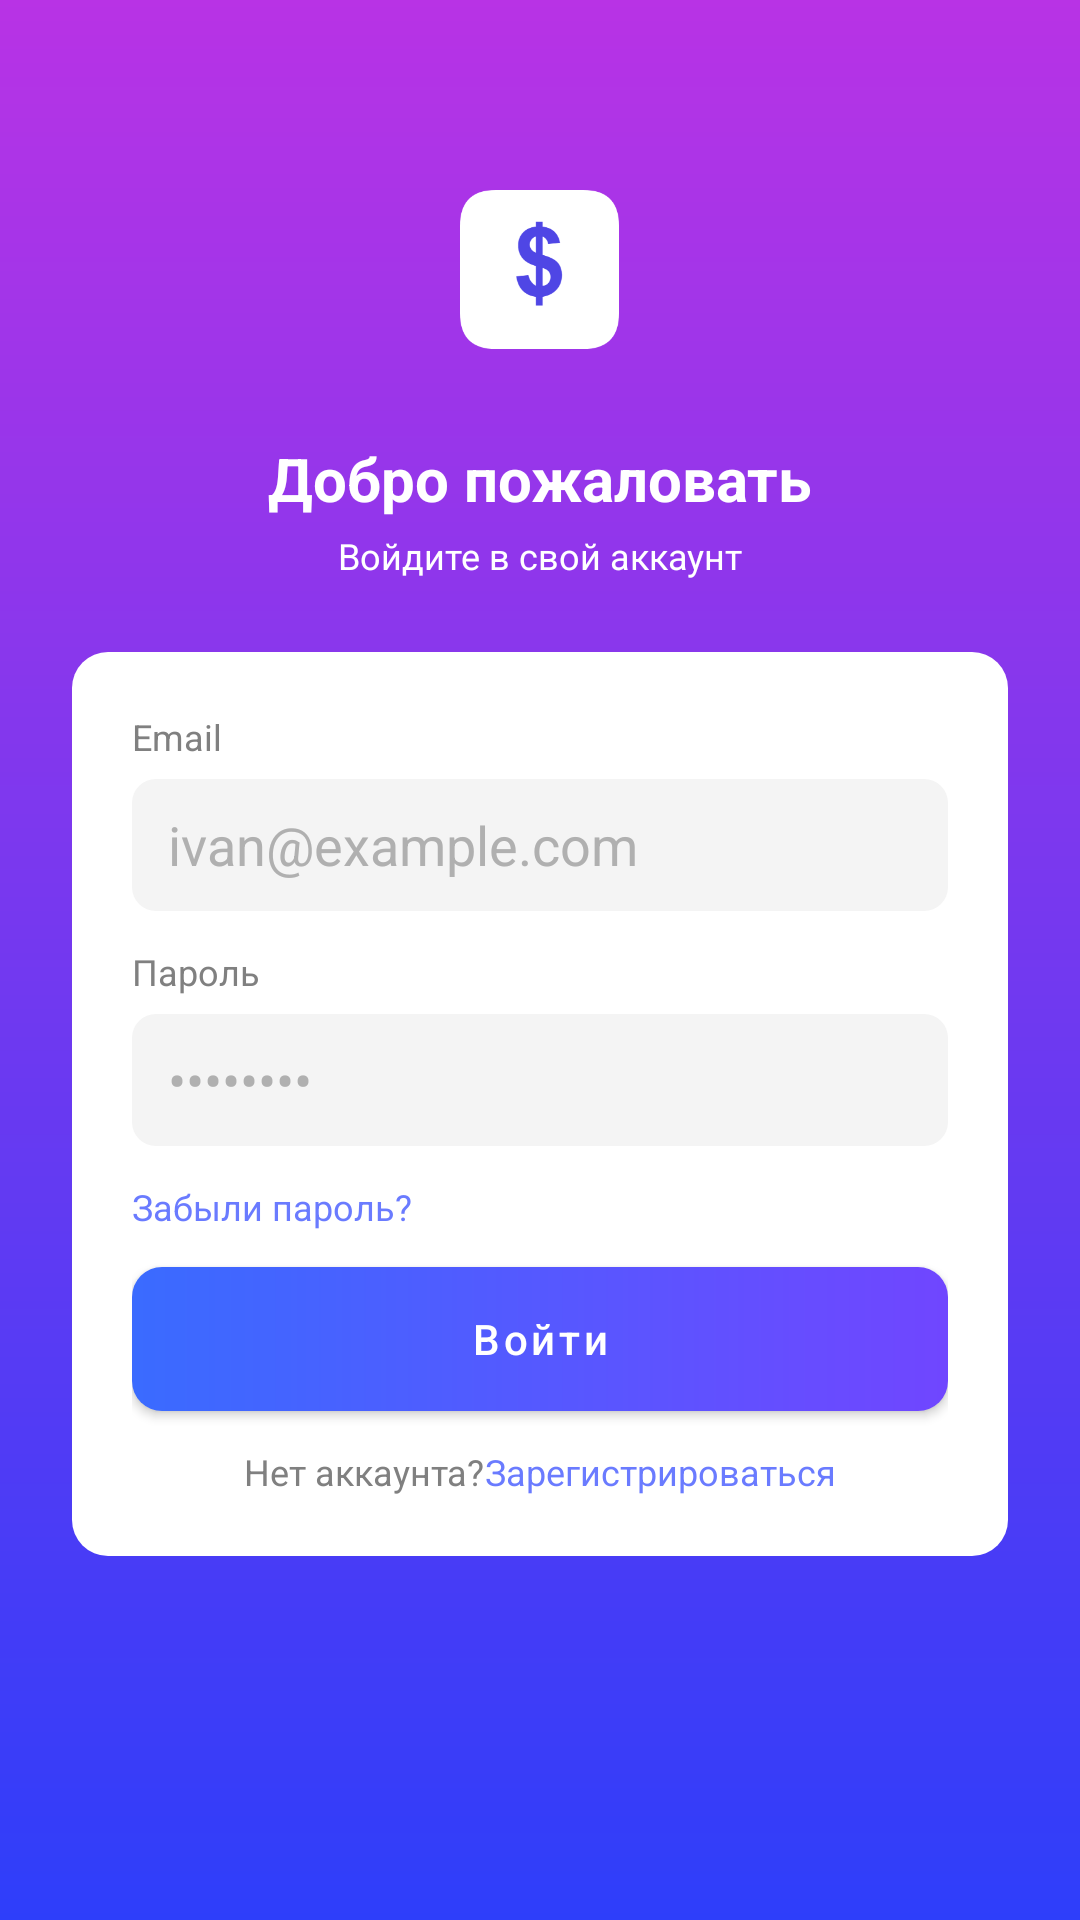

Locate icon controls on the screen. Image size 1080w x 1920h, boxes as (x1, y1, x2, y2).
currency: (460, 190, 619, 349)
